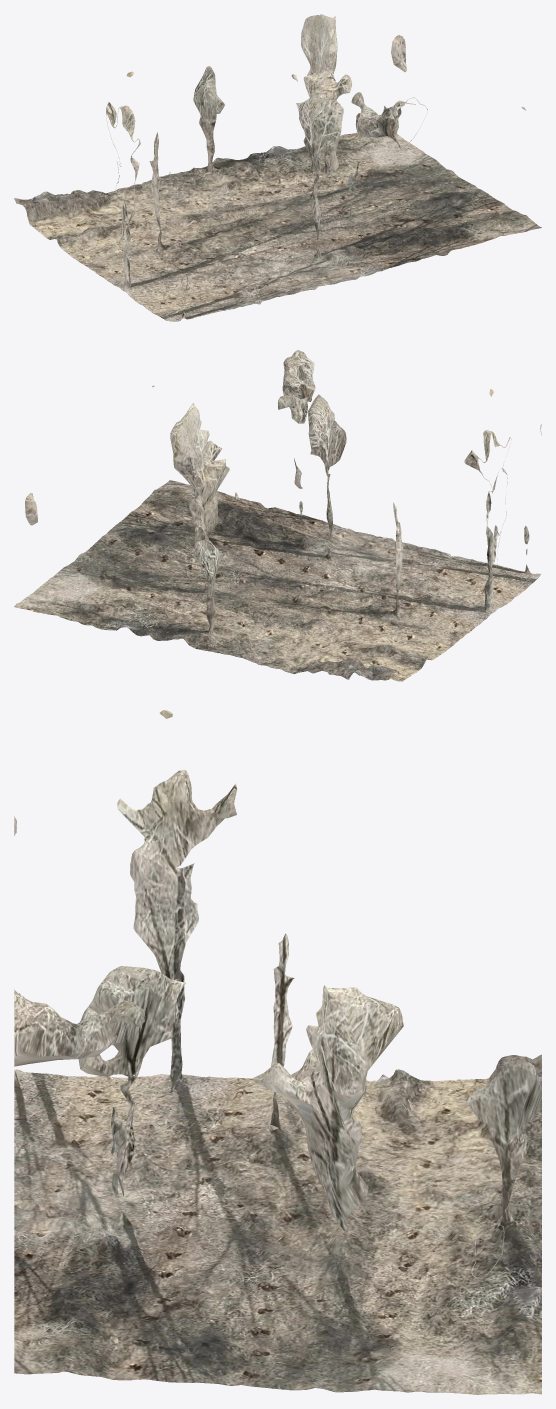
File: Block_L20_274.glb
The picture shows the model from 3 angles, top to bottom: view 1: azimuth 30°, elevation 25°; view 2: azimuth 150°, elevation 25°; view 3: azimuth 270°, elevation 25°; orthographic projection. The views are drawn at different scales.
Visible parts, largest first — view 1: rtc; view 2: rtc; view 3: rtc.
Boxes of the visible parts, x1=… form: rtc: x1=14, y1=14, x2=541, y2=321; rtc: x1=14, y1=350, x2=541, y2=681; rtc: x1=14, y1=710, x2=541, y2=1394.
Bounding box in the file's own units: 24.36 × 14.17 × 17.65.
Materials: 3 (3 with a texture image).
